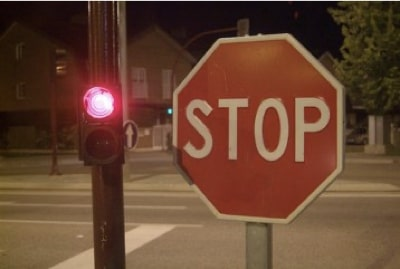StopSign: (171, 32, 348, 227)
